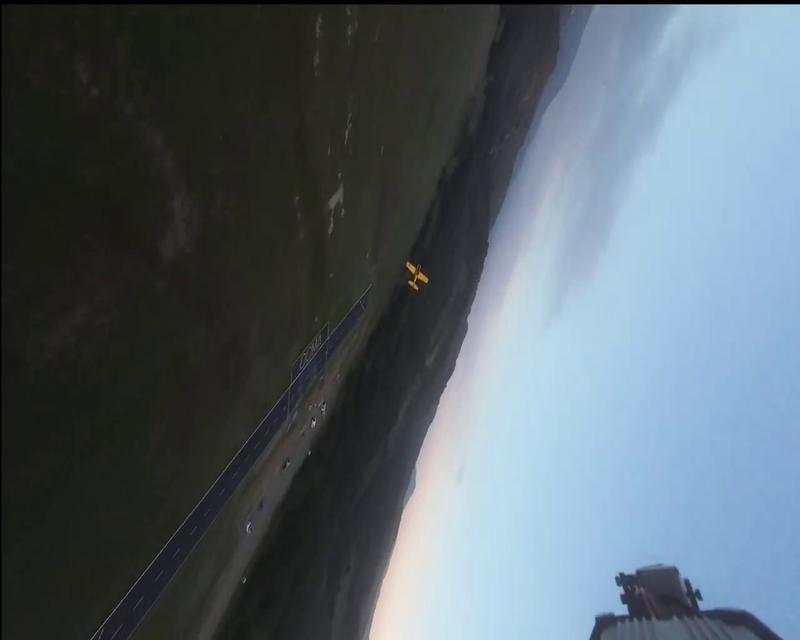UAV: (405, 260, 431, 293)
